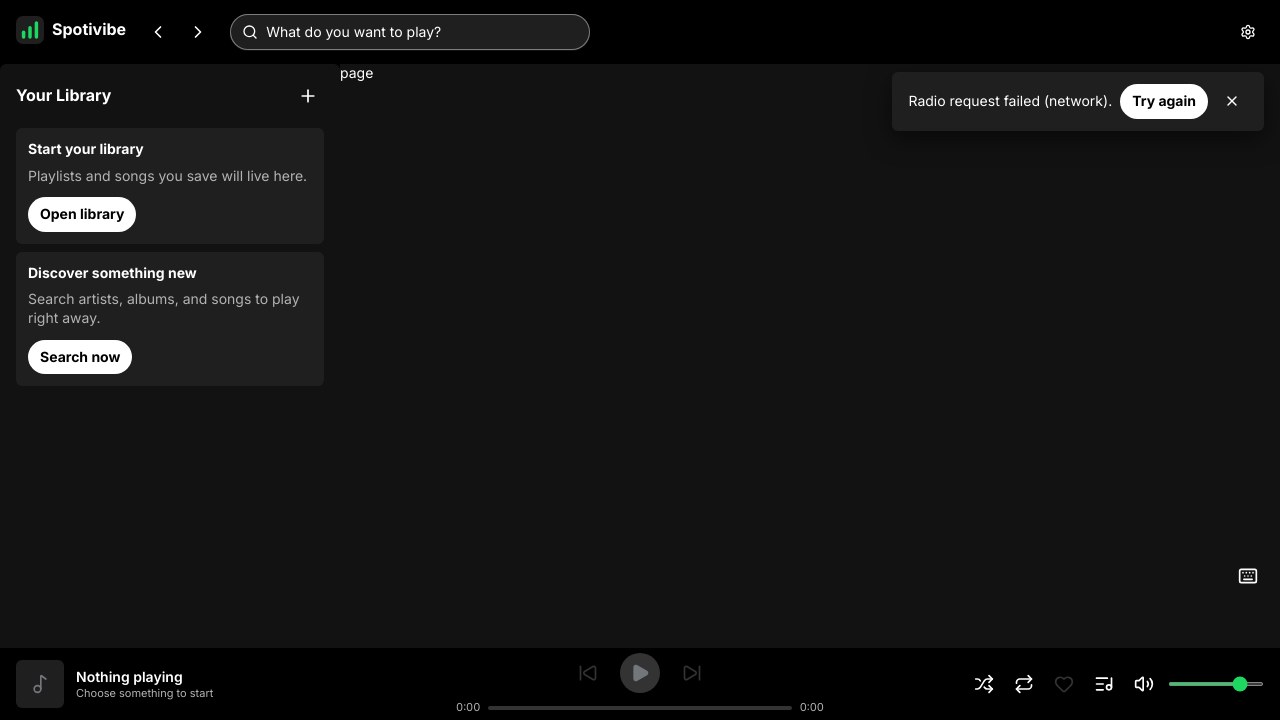
Test case: the help surface › is reachable by pointer as well as by key
Click the button named "Keyboard shortcuts".
click(1248, 576)  # box 1232,560 -> 1264,592
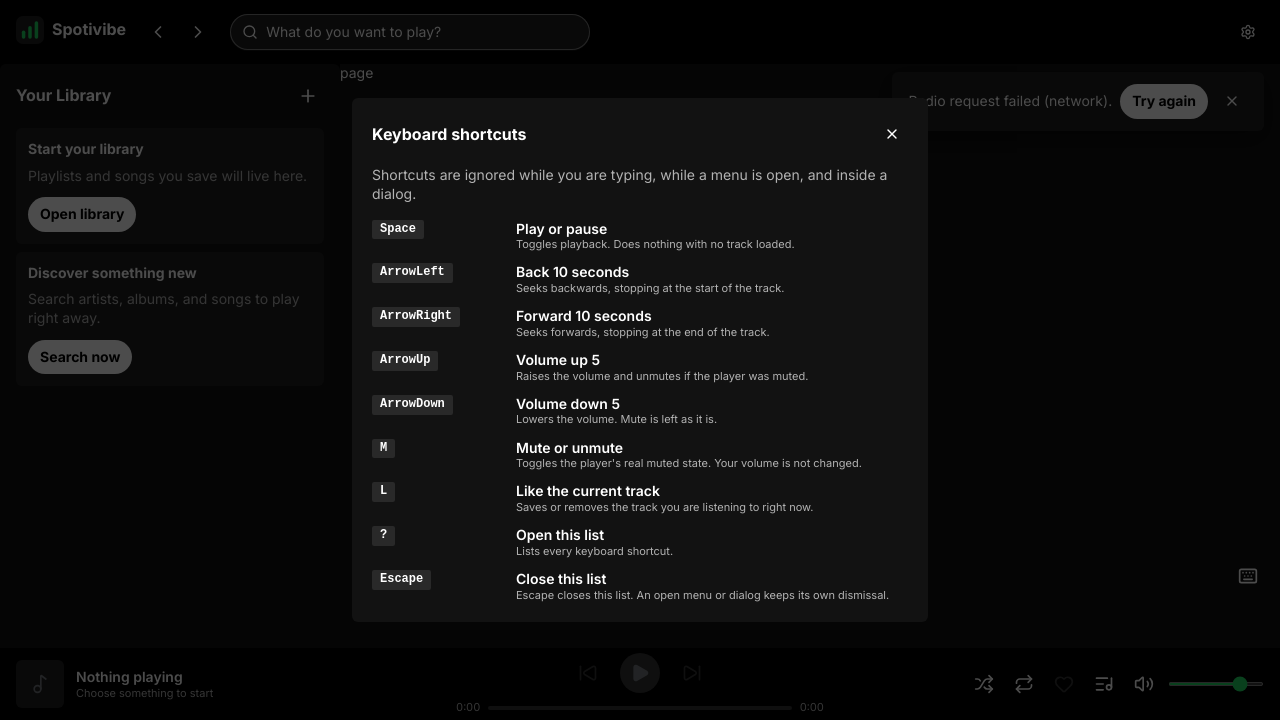
Expected: the number of dialogs is 1, 352,98 -> 928,622
